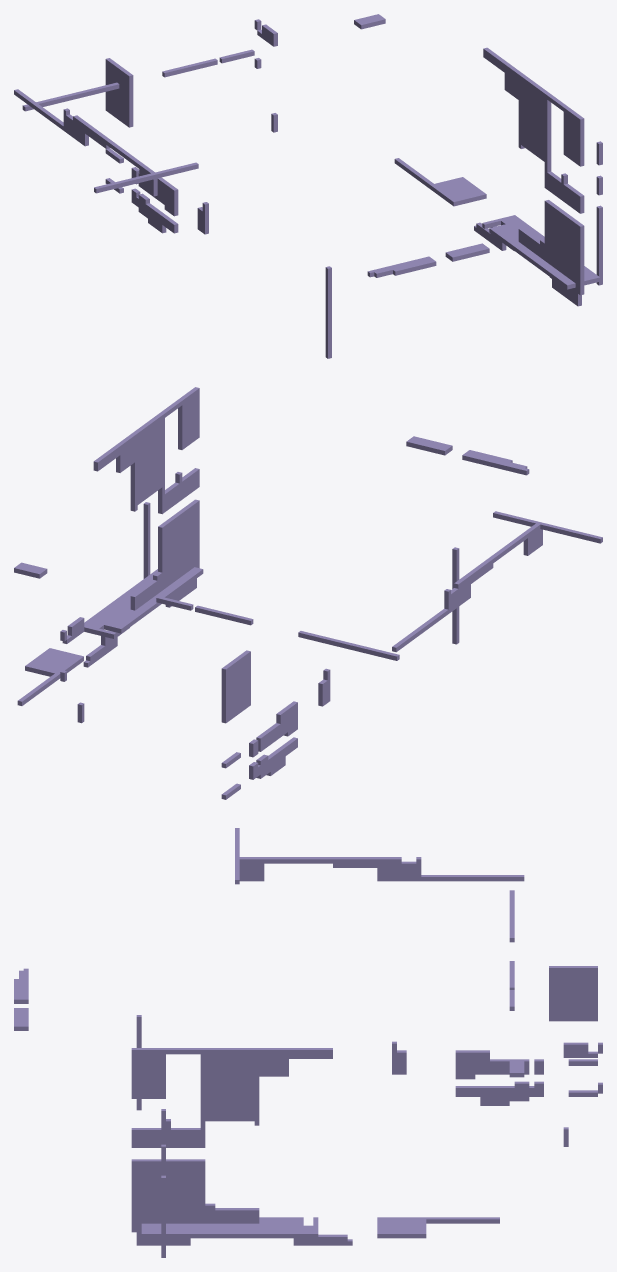
3 renders of one model, top to bottom at view 1: azimuth 30°, elevation 25°; view 2: azimuth 150°, elevation 25°; view 3: azimuth 270°, elevation 25°, orthographic. The views are drawn at different scales.
Parts seen in each view (by area): view 1: 紫光; view 2: 紫光; view 3: 紫光.
Part boxes in pixels (box(x1,y1,x2,y2)): 紫光: box(14, 14, 602, 358); 紫光: box(14, 387, 602, 799); 紫光: box(14, 828, 602, 1257).
Size of the model in its own units: 115 by 44 by 120.
